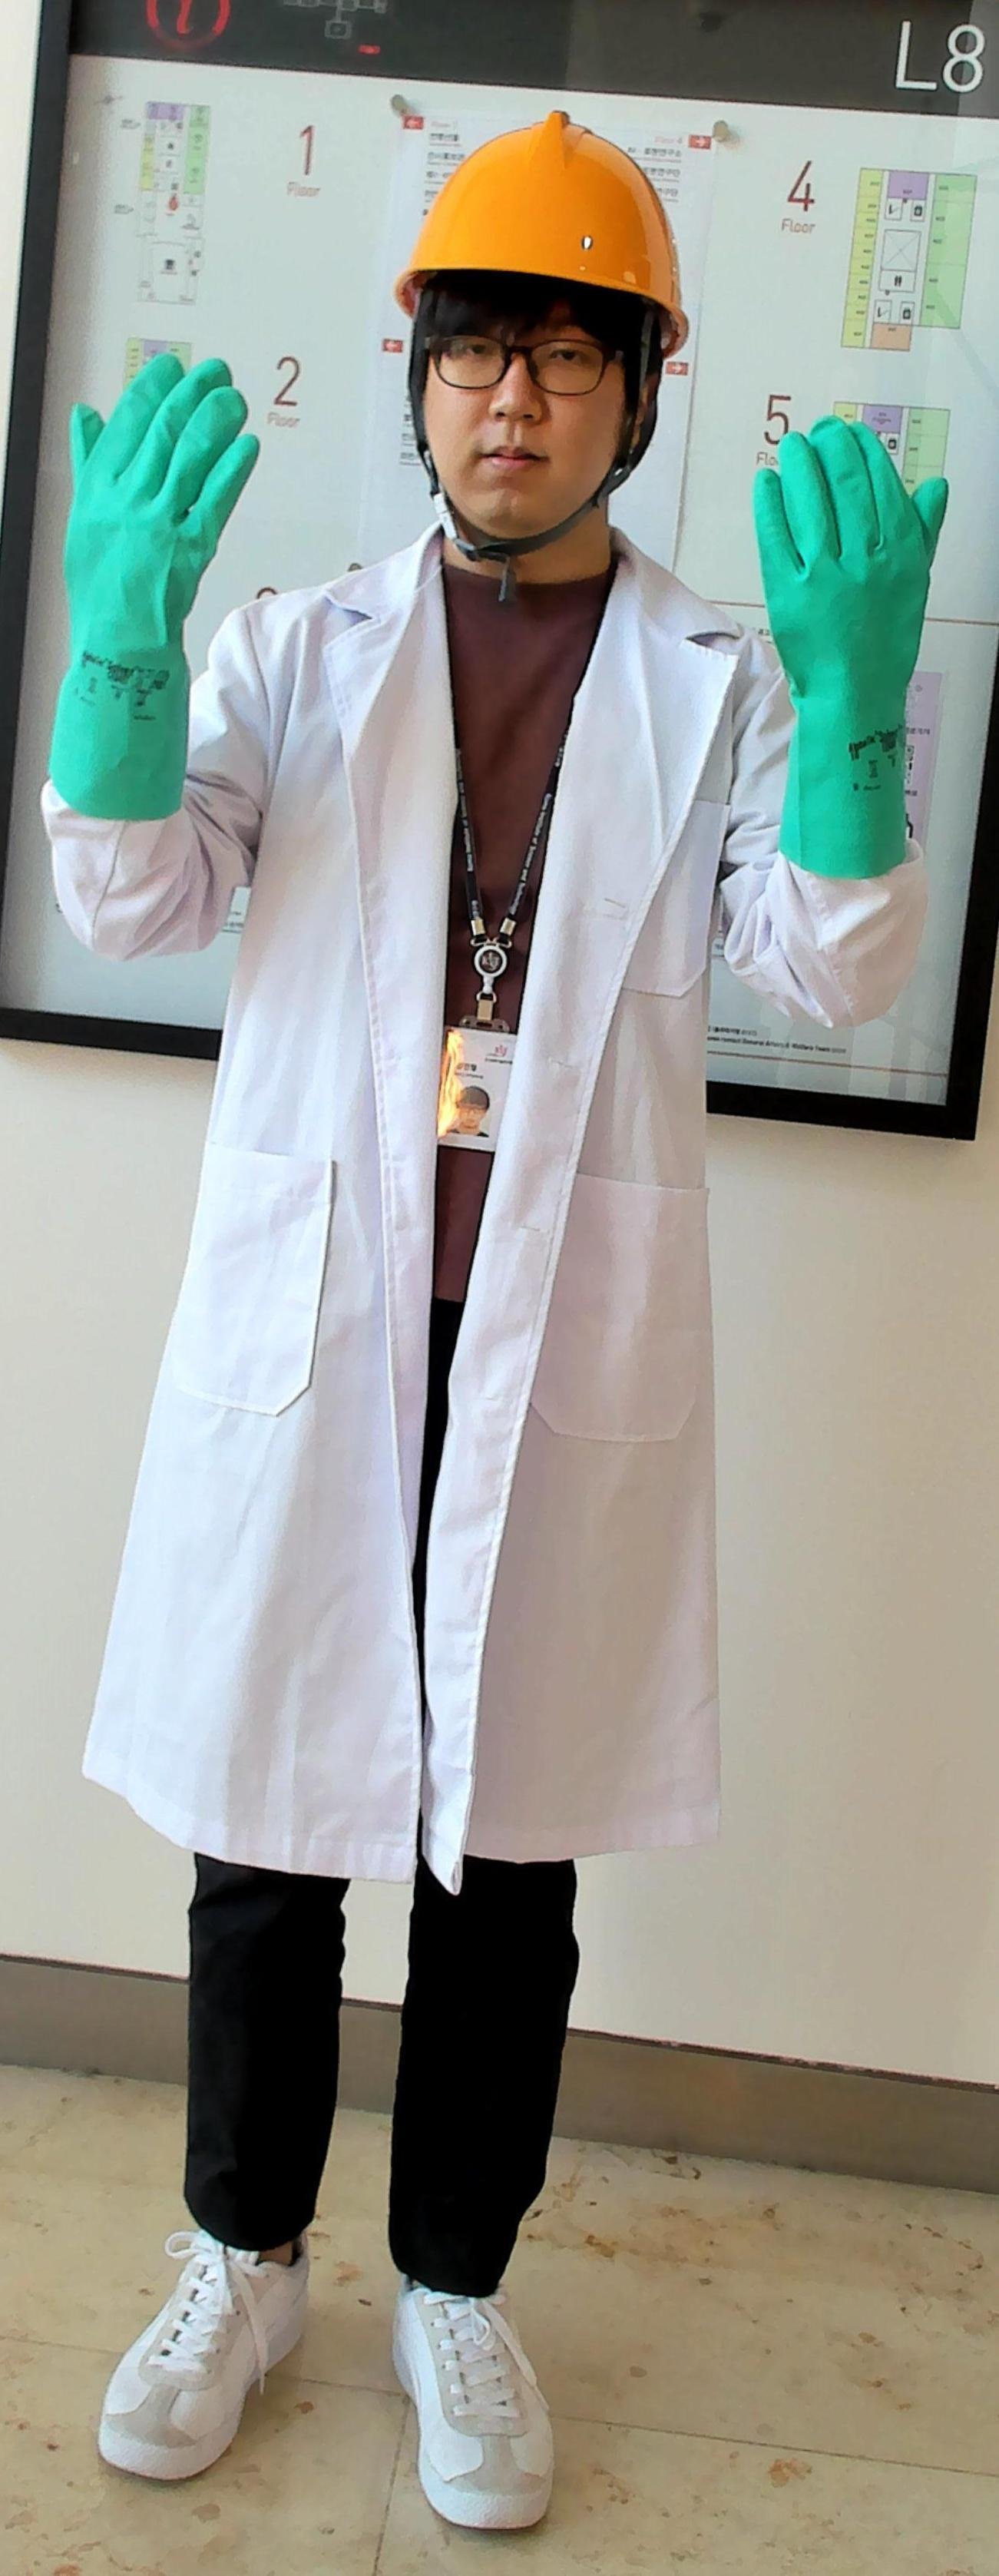lab_coat: (189, 624, 769, 1843)
